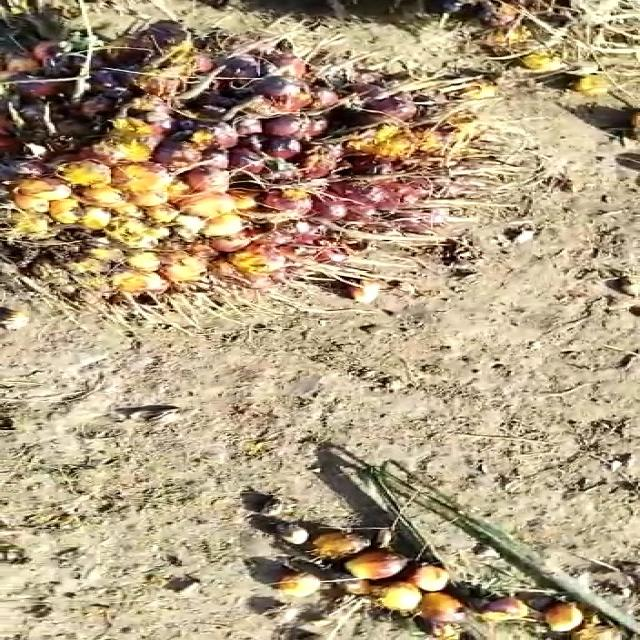palm oil: (0, 20, 511, 324)
